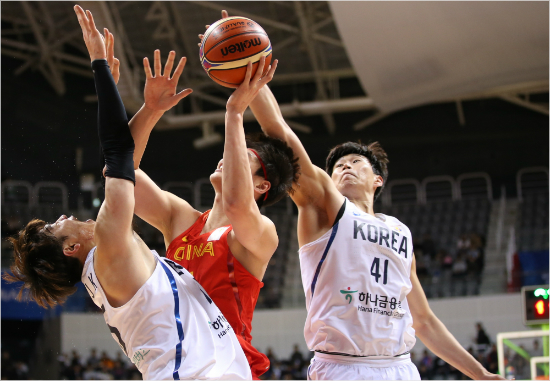block: (205, 0, 475, 378)
defense: (17, 8, 249, 381)
shoot: (121, 13, 286, 352)
